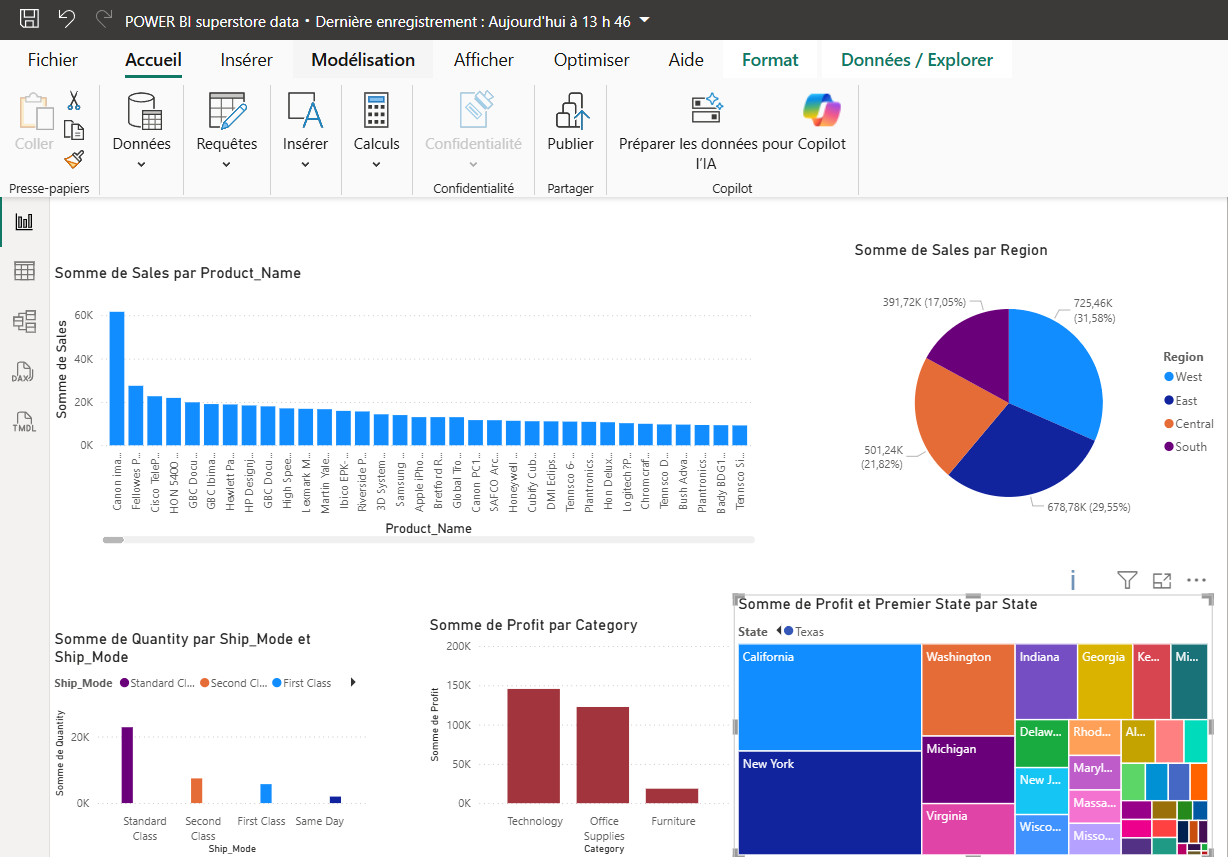

The dashboard page shown, as its layout file describes it:
{"tool":"powerbi","page":{"name":"Page 1","canvas":[1280,720],"ordinal":0},"visuals":[{"type":"pieChart","fields":{"Category":["superstore.Region"],"Y":["Sum(superstore.Sales)"]},"box":[869.6,48.1,410.7,334],"z":0},{"type":"columnChart","fields":{"Category":["superstore.Product_Name"],"Y":["Sum(superstore.Sales)"]},"box":[0,72.2,771.8,309.9],"z":1000},{"type":"clusteredColumnChart","fields":{"Y":["Sum(superstore.Profit)"],"Category":["superstore.Category"]},"box":[407.7,455.9,335.5,264.8],"z":2000},{"type":"treemap","fields":{"Group":["superstore.State"],"Values":["Sum(superstore.Profit)"]},"box":[759.7,432.2,520.5,288.1],"z":3000},{"type":"clusteredColumnChart","fields":{"Y":["Sum(superstore.Quantity)"],"Category":["superstore.Ship_Mode"],"Series":["superstore.Ship_Mode"]},"box":[0,470.9,349,249.7],"z":4000}]}

Visuals, with their boxes on the page's 1280x720 design canvas (x1, y1, x2, y2). These are canvas units, not pixel positions in the 1228x857 screenshot, which may show the page scaled, cropped or inside an application window:
pieChart - superstore.Region x Sum(superstore.Sales): select_region(870, 48, 1280, 382)
columnChart - superstore.Product_Name x Sum(superstore.Sales): select_region(0, 72, 772, 382)
clusteredColumnChart - Sum(superstore.Profit) x superstore.Category: select_region(408, 456, 743, 721)
treemap - superstore.State x Sum(superstore.Profit): select_region(760, 432, 1280, 720)
clusteredColumnChart - Sum(superstore.Quantity) x superstore.Ship_Mode: select_region(0, 471, 349, 721)
